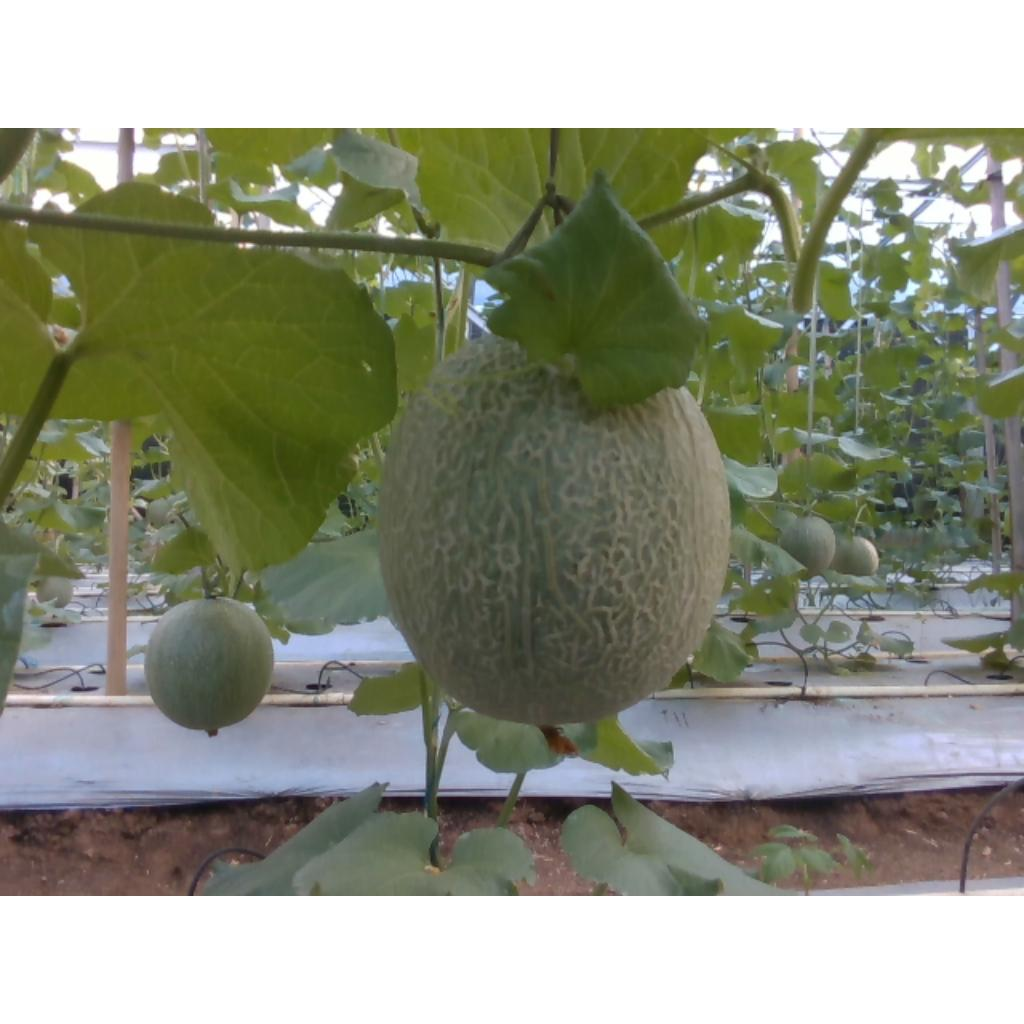melon: (381, 334, 731, 726)
